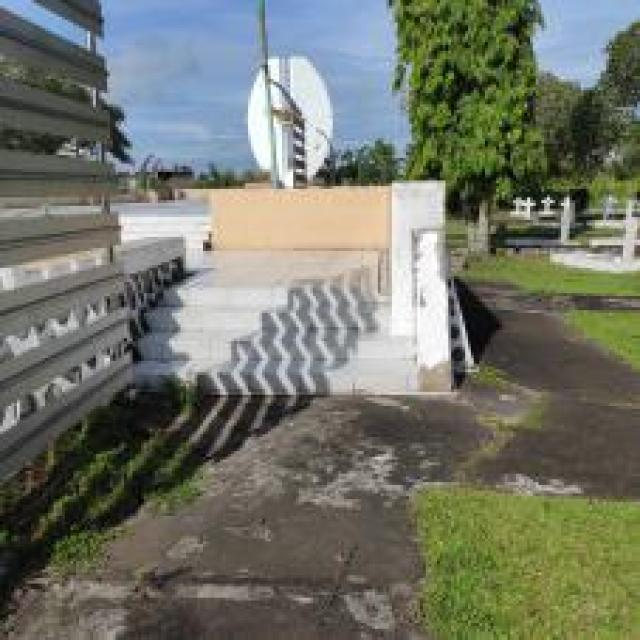upstair: (187, 266, 376, 404)
